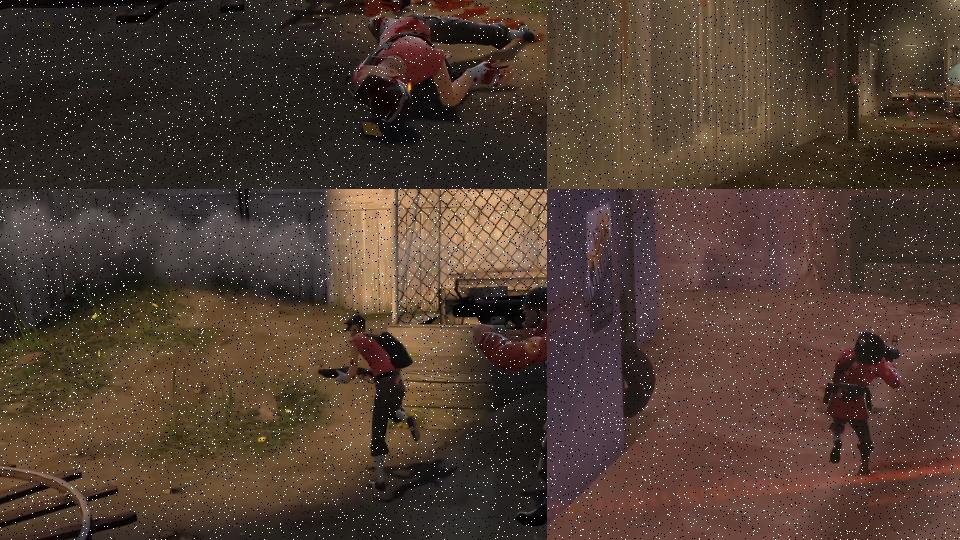Enemy: (448, 271, 547, 528), (345, 15, 535, 123), (317, 313, 422, 492), (811, 323, 911, 492)
